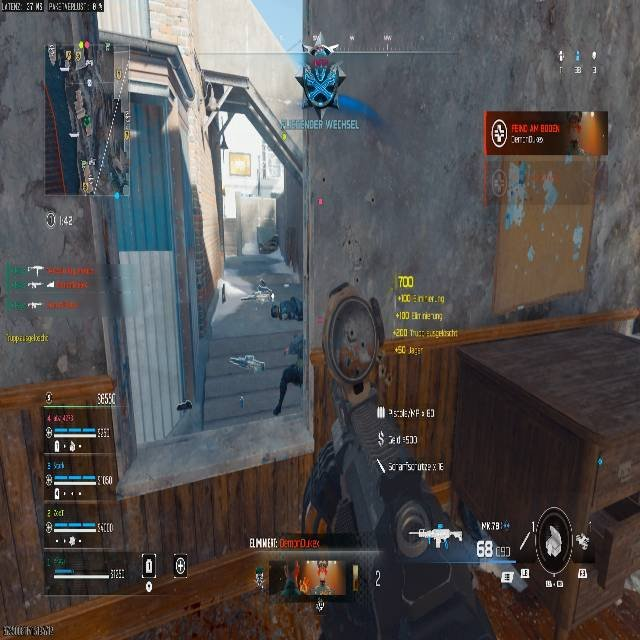head: (304, 33, 324, 52)
player: (292, 44, 347, 115), (272, 330, 305, 414)
